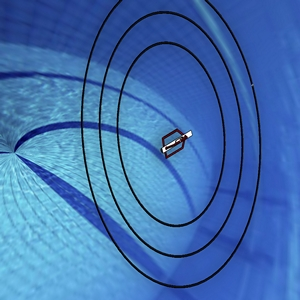circle: (69, 1, 273, 290)
submarine: (141, 115, 199, 165)
